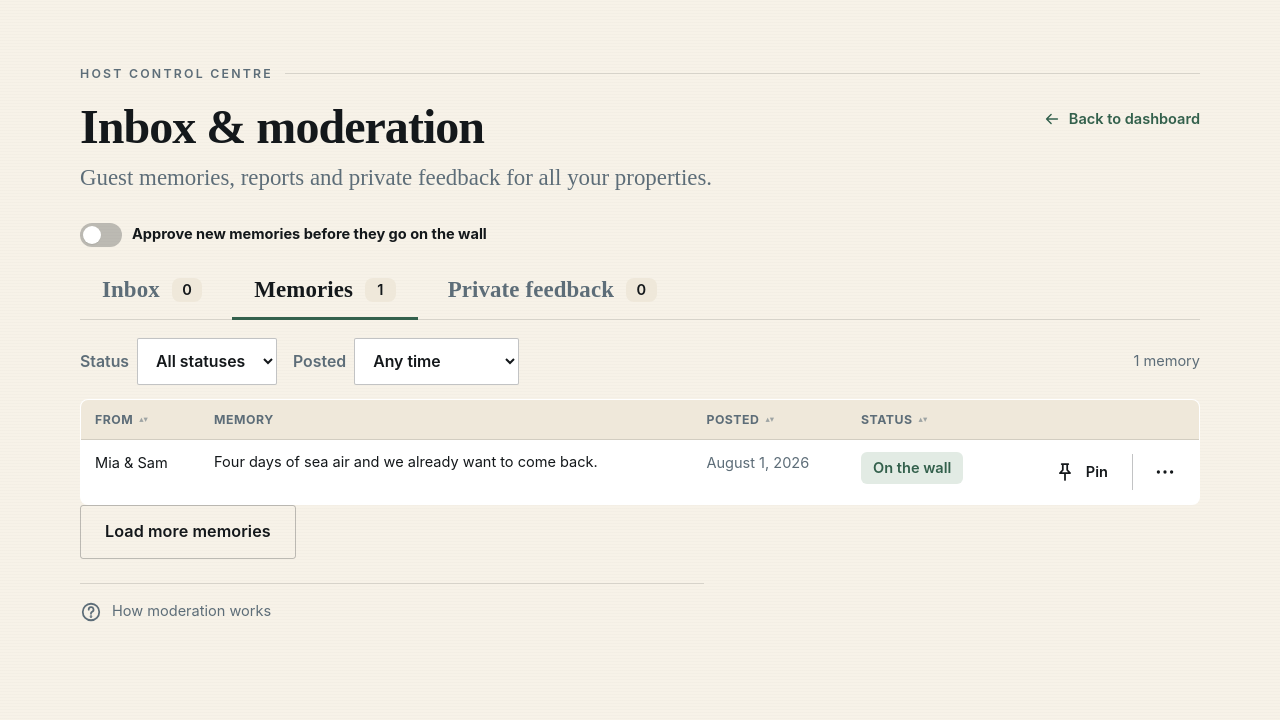
it: the memories table › loads another page without duplicating existing memories
This screenshot has width=1280, height=720.
Click the button "Load more memories". click: (188, 532)
box: [80,505,296,559]
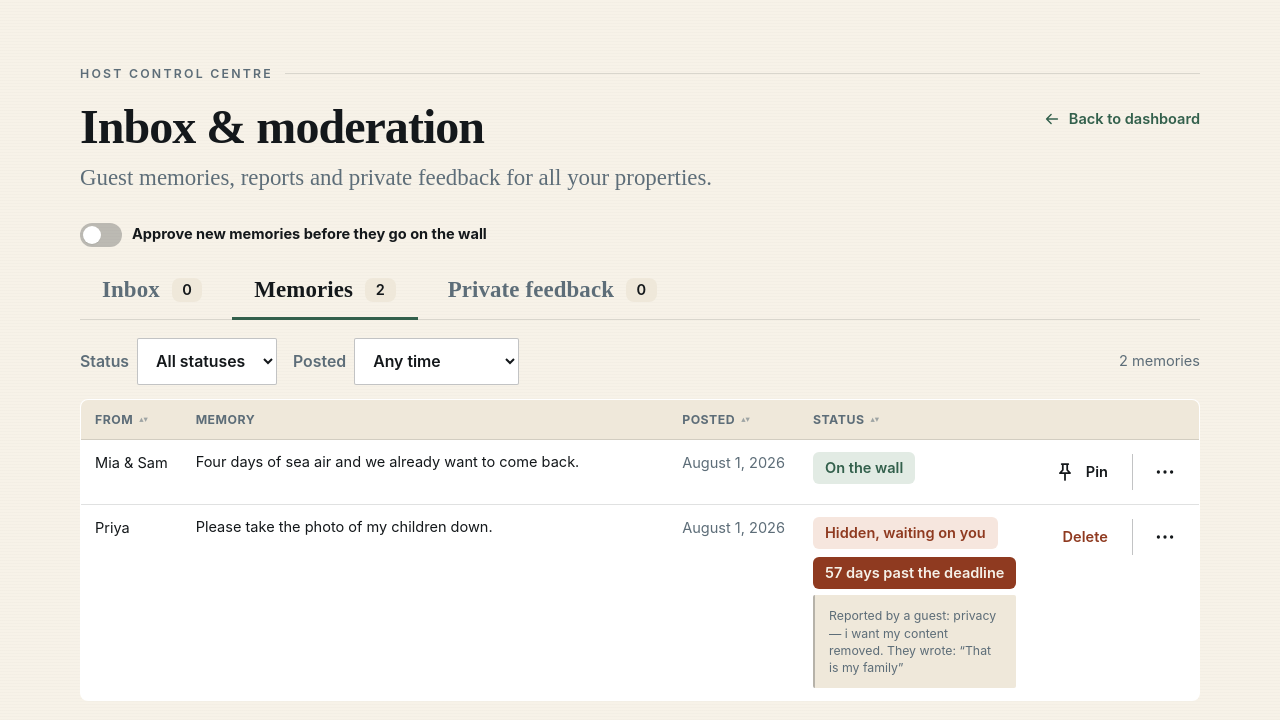
Now the text "Please take the photo of my children down." is shown, box [196,518,493,536]
Now the text "Four days of sea air and we already want to come back." is shown once, box [196,453,579,471]
Now the button "Load more memories" is gone
